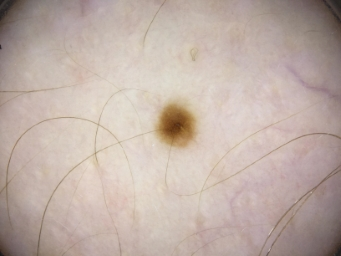melanoma: (158, 105, 196, 148)
